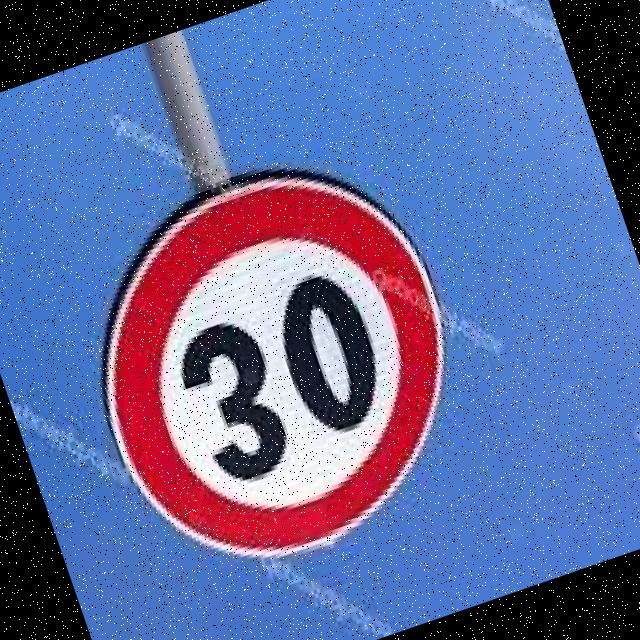speed_limit_30: (19, 97, 520, 628)
